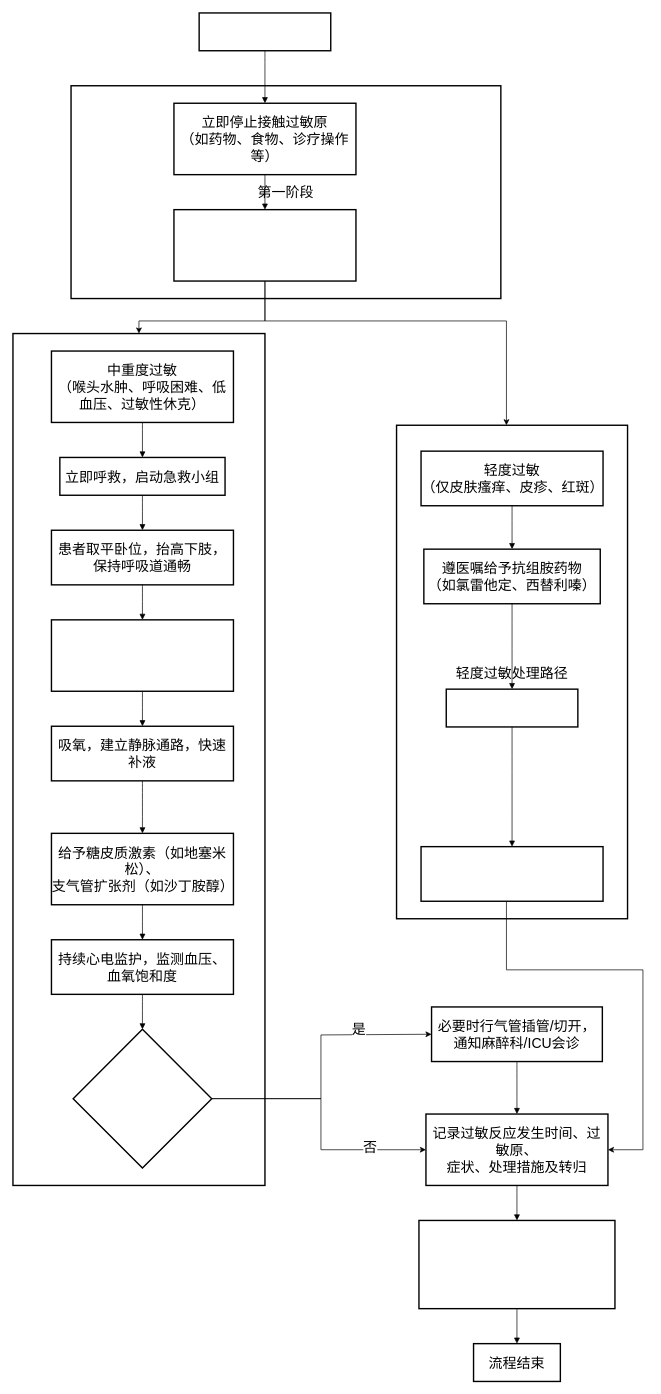
This 661x1394 diagram has some shape labels left out. Here are the shapes that lost their labels. From the top down, the centre of each, then its label:
(x=264, y=31): 患者发生过敏反应
(x=264, y=245): 初步评估生命体征 （意识、呼吸、心率、血压、皮肤表现）
(x=142, y=655): 立即遵医嘱肌内注射肾上腺素 （首选大腿外侧）
(x=511, y=707): 监测生命体征变化
(x=511, y=874): 留观至少30分钟，无进展可离院
(x=142, y=1098): 是否需要气道支持？
(x=516, y=1264): 后续告知患者及家属过敏原， 发放过敏标识，避免再次接触
